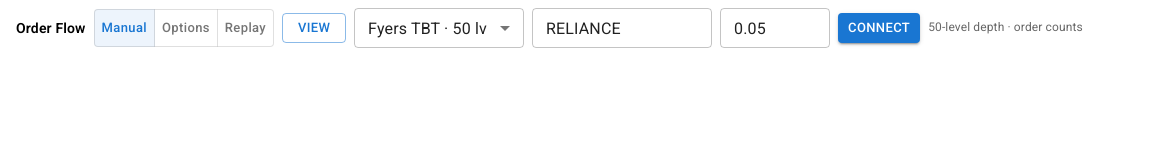
it: OrderFlowPage replay mode › rejects an unparseable time instead of sending it to the API
Click the button "Replay".
click(245, 28)  # box [217,9,274,47]
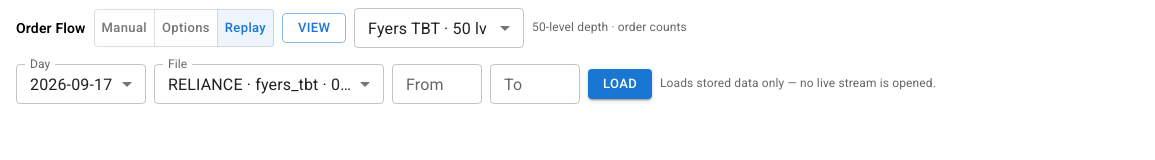
Expected: the element with test id "orderflow-replay-row" is shown, [16,56,936,104]
Type "abc" into the field with test id "orderflow-replay-from".
click(437, 84); type("abc")  # box [392,64,482,104]
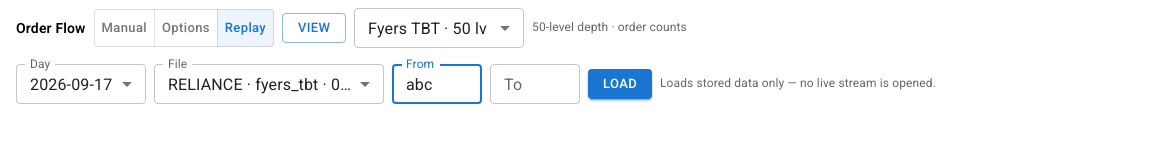
Click the button with test id "orderflow-replay-load".
click(620, 84)  # box [588,69,652,99]
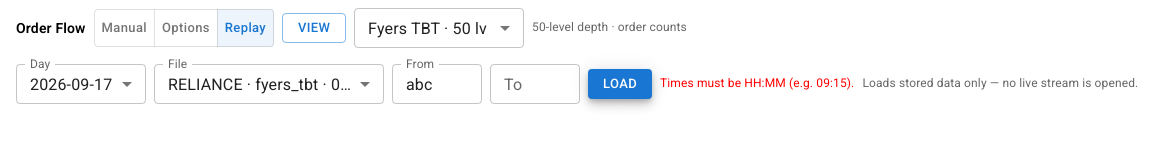
Expected: the text with test id "orderflow-replay-error" shows "must be HH:MM", [660,76,854,90]
